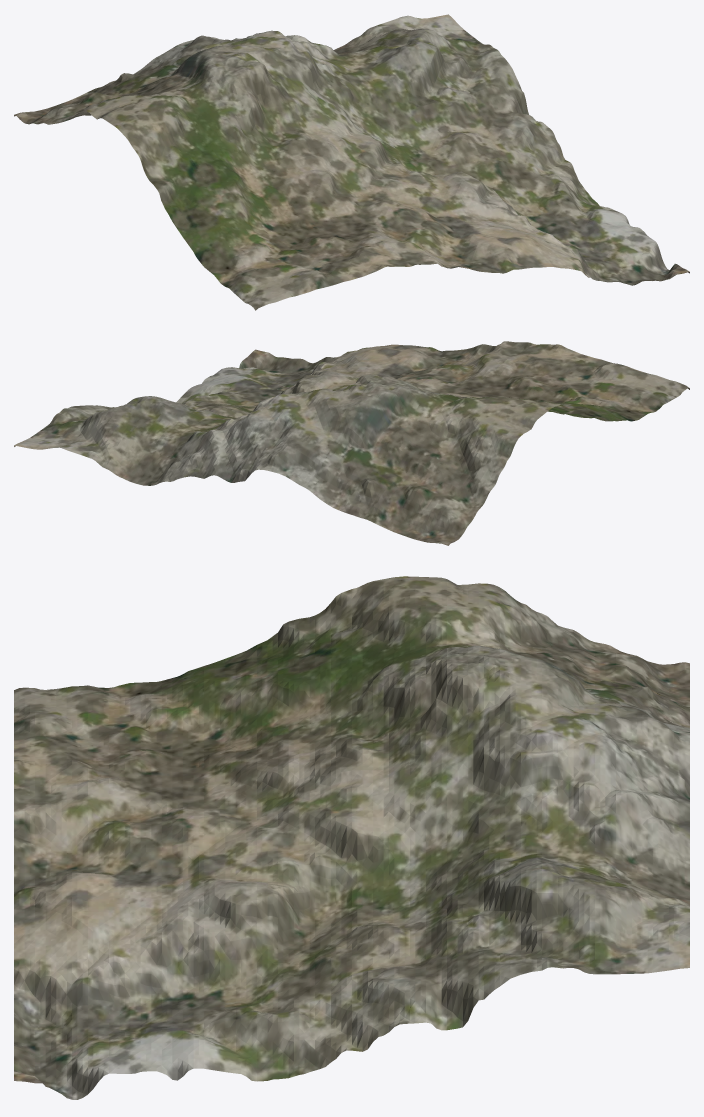
3 views of the same model, one above another, from view 1: azimuth 30°, elevation 25°; view 2: azimuth 150°, elevation 25°; view 3: azimuth 270°, elevation 25° (orthographic). The views are drawn at different scales.
Bounding box in the file's own units: 250 × 96.73 × 241.
Materials: 1 (1 with a texture image).
